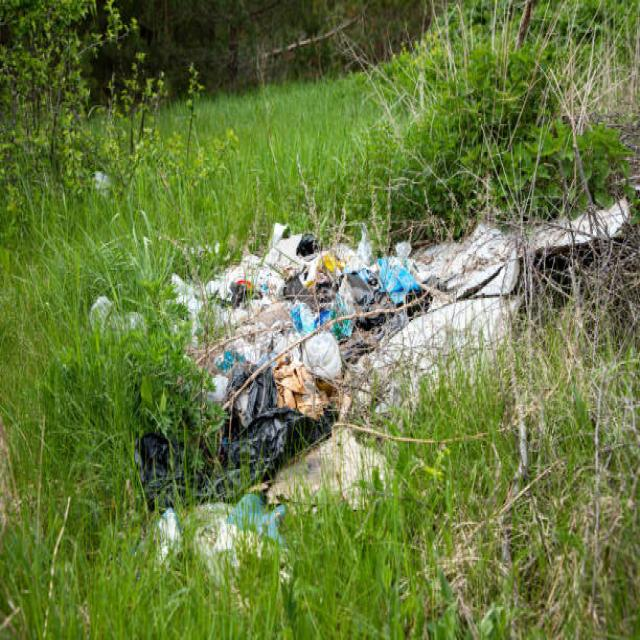plastic: (190, 245, 486, 398)
